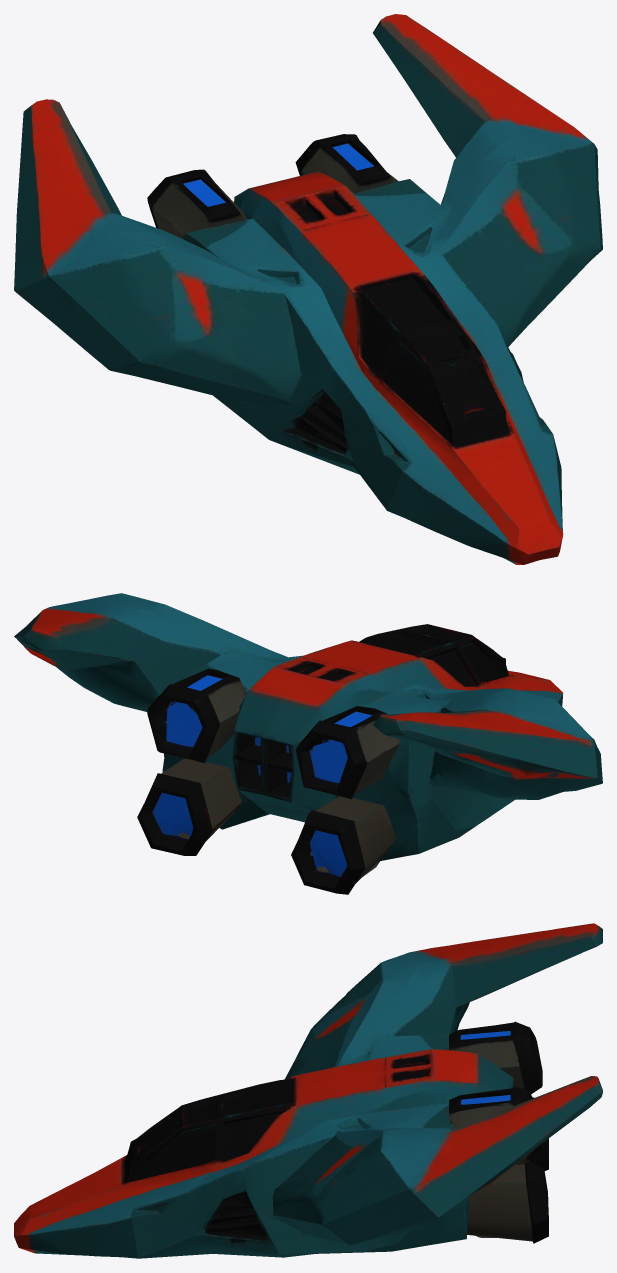
The picture shows the model from 3 angles, top to bottom: view 1: azimuth 30°, elevation 25°; view 2: azimuth 150°, elevation 25°; view 3: azimuth 270°, elevation 25°; orthographic projection. The views are drawn at different scales.
Parts seen in each view (by area): view 1: world; view 2: world; view 3: world.
Part boxes in pixels (x1=…): world: x1=14, y1=14, x2=602, y2=564; world: x1=14, y1=593, x2=602, y2=894; world: x1=14, y1=923, x2=602, y2=1258.
Size of the model in its own units: 1 by 0.4479 by 0.9848.
1 material, 1 textured.
